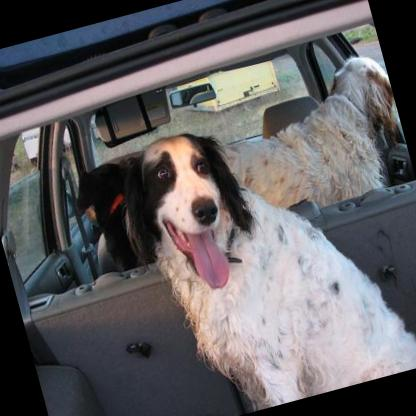English_setter: (105, 83, 416, 416), (206, 46, 414, 227)
